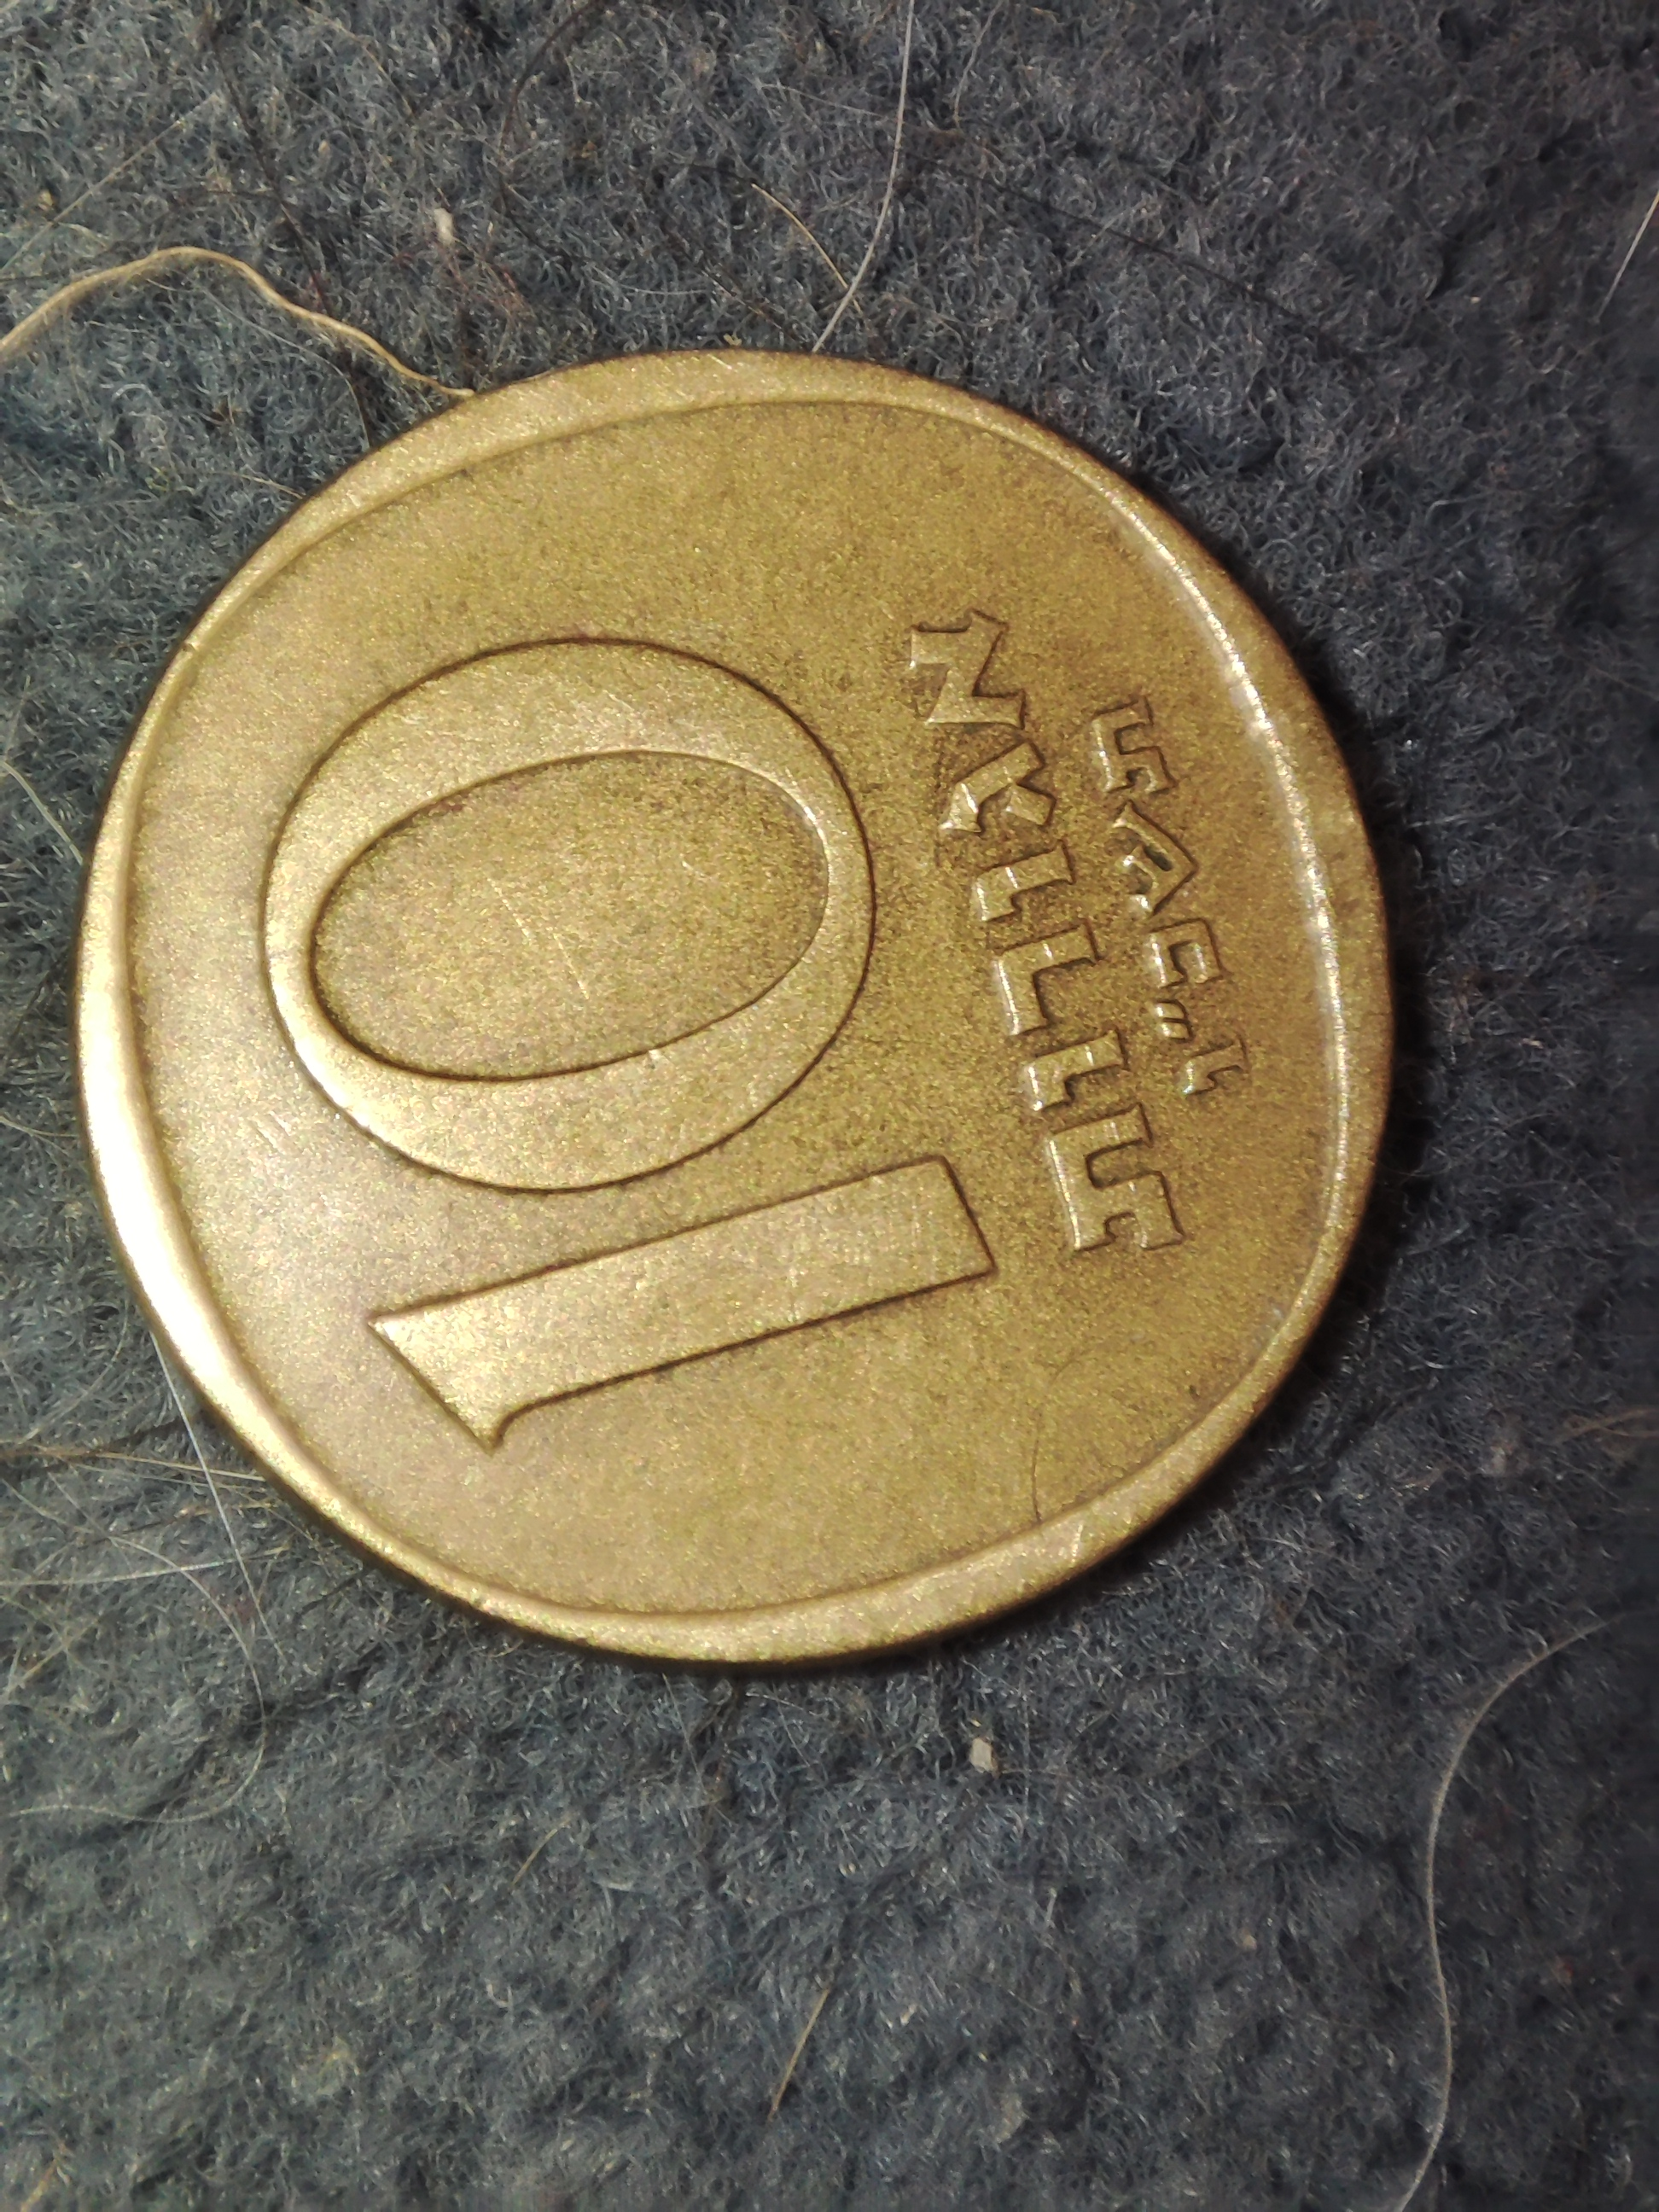10 old agora brown: (58, 336, 1419, 1688)
